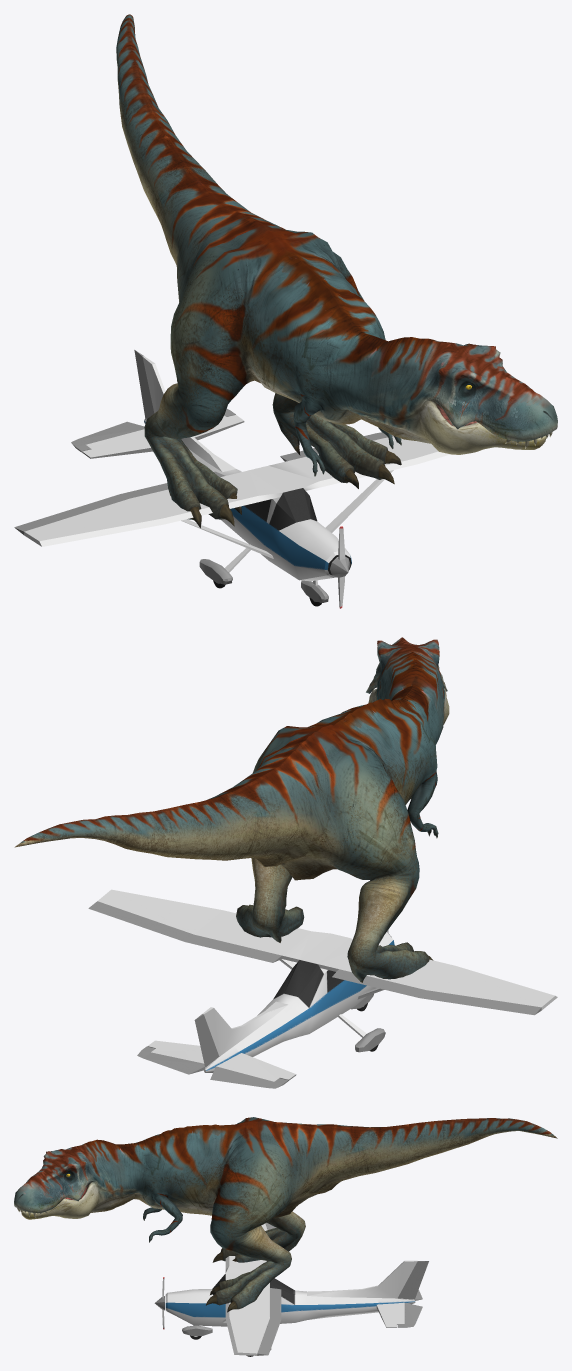
File: trex_plane.obj
The picture shows the model from 3 angles, top to bottom: view 1: azimuth 30°, elevation 25°; view 2: azimuth 150°, elevation 25°; view 3: azimuth 270°, elevation 25°; orthographic projection. The views are drawn at different scales.
Visible parts, largest first — view 1: Trex, Plane; view 2: Trex, Plane; view 3: Trex, Plane.
Part boxes in pixels (x1,y1,x2,y2): Trex: (116, 14, 557, 528); Plane: (14, 350, 449, 608); Trex: (14, 637, 449, 982); Plane: (88, 889, 557, 1088); Trex: (14, 1117, 557, 1312); Plane: (154, 1222, 428, 1356).
Size of the model in its own units: 11.02 by 8.1 by 16.64.
